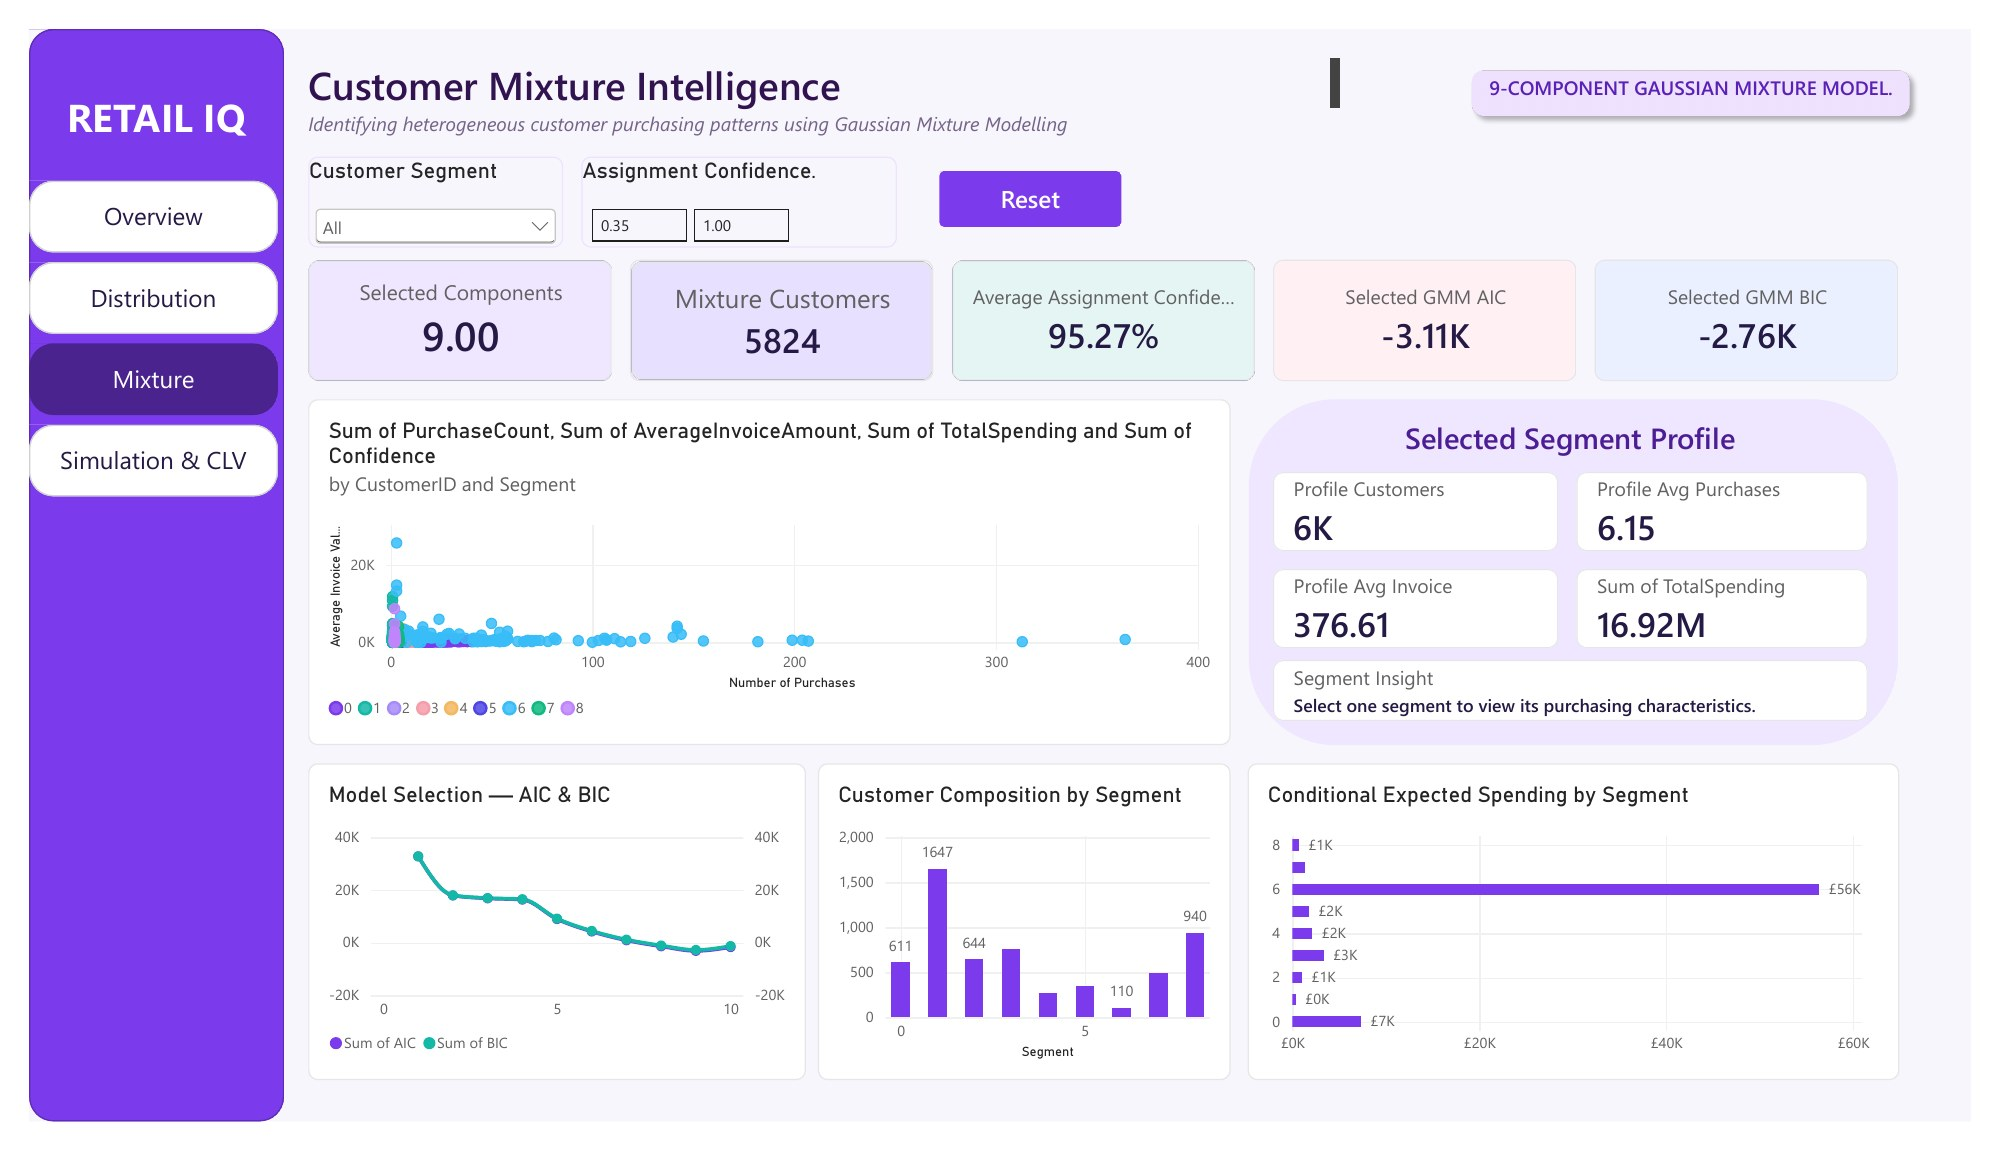

What the dashboard file says about the page in this screenshot:
{"tool":"powerbi","page":{"name":"Mixture","canvas":[1600,900],"ordinal":2},"visuals":[{"type":"shape","box":[1005,305,535,285],"z":1000},{"type":"shape","box":[1180,24.7,377.9,55.2],"z":2000},{"type":"shape","box":[0,0,210,900],"z":3000},{"type":"textbox","box":[0,50,210,71],"z":4000},{"type":"pageNavigator","box":[0,125,205,263],"z":5000},{"type":"textbox","box":[230,24,850,42],"z":6000},{"type":"textbox","box":[230,67,850,25],"z":7000},{"type":"textbox","box":[1190,38,359,28],"z":8000},{"type":"slicer","title":"Customer Segment","fields":{"Values":["Mixture_Customer_Assignments.Segment"]},"box":[230,105,210,75],"z":9000},{"type":"slicer","title":"Assignment Confidence.","fields":{"Values":["Mixture_Customer_Assignments.Confidence"]},"box":[455,105,260,75],"z":10000},{"type":"actionButton","box":[750,117,150,46],"z":11000},{"type":"cardVisual","title":"Selected Components","fields":{"Data":["Mixture_Customer_Assignments.Selected Components"]},"box":[230,190,250,100],"z":12000},{"type":"cardVisual","fields":{"Data":["Mixture_Customer_Assignments.Mixture Customers"]},"box":[495,190,250,100],"z":13000},{"type":"cardVisual","title":"Selected Components","fields":{"Data":["Mixture_Customer_Assignments.Average Assignment Confidence"]},"box":[760,190,250,100],"z":14000},{"type":"cardVisual","title":"Selected Components","fields":{"Data":["Mixture_Customer_Assignments.Selected GMM AIC"]},"box":[1025,190,250,100],"z":15000},{"type":"cardVisual","title":"Selected Components","fields":{"Data":["Mixture_Customer_Assignments.Selected GMM BIC"]},"box":[1290,190,250,100],"z":16000},{"type":"scatterChart","fields":{"Category":["Mixture_Customer_Assignments.CustomerID"],"Series":["Mixture_Customer_Assignments.Segment"],"X":["Sum(Mixture_Customer_Assignments.PurchaseCount)"],"Y":["Sum(Mixture_Customer_Assignments.AverageInvoiceAmount)"]},"box":[230,305,760,285],"z":17000},{"type":"textbox","box":[1025,320,490,42],"z":18000},{"type":"cardVisual","fields":{"Data":["Mixture_Customer_Assignments.Profile Customers"]},"box":[1025,365,235,65],"z":19000},{"type":"cardVisual","fields":{"Data":["Mixture_Customer_Assignments.Profile Avg Purchases"]},"box":[1275,365,240,65],"z":20000},{"type":"cardVisual","fields":{"Data":["Sum(Mixture_Customer_Assignments.TotalSpending)"]},"box":[1275,445,240,65],"z":21000},{"type":"cardVisual","fields":{"Data":["Mixture_Customer_Assignments.Profile Avg Invoice"]},"box":[1025,445,235,65],"z":22000},{"type":"cardVisual","fields":{"Data":["Mixture_Customer_Assignments.Segment Insight"]},"box":[1025,520,490,50],"z":23000},{"type":"lineChart","title":"Model Selection — AIC & BIC","fields":{"Category":["Mixture_Model_Selection.Components"],"Y":["Sum(Mixture_Model_Selection.AIC)"],"Y2":["Sum(Mixture_Model_Selection.BIC)"]},"box":[229.7,604.7,410,261.6],"z":24000},{"type":"clusteredColumnChart","title":"Customer Composition by Segment","fields":{"Category":["Mixture_Customer_Assignments.Segment"],"Y":["CountNonNull(Mixture_Customer_Assignments.CustomerID)"]},"box":[649.7,604.7,340.1,261.6],"z":25000},{"type":"clusteredBarChart","title":"Conditional Expected Spending by Segment","fields":{"Category":["Conditional_Expectations.Segment"],"Y":["Sum(Conditional_Expectations.ExpectedTotalSpending)"]},"box":[1004.4,604.7,536.3,261.6],"z":26000}]}

Visuals, with their boxes in screenshot pixels (x1, y1, x2, y2), scaled from the page's 1600x900 canvas onto the 2000x1151 screenshot:
shape: x1=1256 y1=390 x2=1925 y2=755
shape: x1=1475 y1=32 x2=1947 y2=102
shape: x1=0 y1=0 x2=262 y2=1150
textbox: x1=0 y1=64 x2=262 y2=155
pageNavigator: x1=0 y1=160 x2=256 y2=496
textbox: x1=288 y1=31 x2=1350 y2=84
textbox: x1=288 y1=86 x2=1350 y2=118
textbox: x1=1488 y1=49 x2=1936 y2=84
"Customer Segment" slicer: x1=288 y1=134 x2=550 y2=230
"Assignment Confidence." slicer: x1=569 y1=134 x2=894 y2=230
actionButton: x1=938 y1=150 x2=1125 y2=208
"Selected Components" cardVisual: x1=288 y1=243 x2=600 y2=371
cardVisual - Mixture_Customer_Assignments.Mixture Customers: x1=619 y1=243 x2=931 y2=371
"Selected Components" cardVisual: x1=950 y1=243 x2=1262 y2=371
"Selected Components" cardVisual: x1=1281 y1=243 x2=1594 y2=371
"Selected Components" cardVisual: x1=1612 y1=243 x2=1925 y2=371
scatterChart - Mixture_Customer_Assignments.CustomerID x Mixture_Customer_Assignments.Segment: x1=288 y1=390 x2=1238 y2=755
textbox: x1=1281 y1=409 x2=1894 y2=463
cardVisual - Mixture_Customer_Assignments.Profile Customers: x1=1281 y1=467 x2=1575 y2=550
cardVisual - Mixture_Customer_Assignments.Profile Avg Purchases: x1=1594 y1=467 x2=1894 y2=550
cardVisual - Sum(Mixture_Customer_Assignments.TotalSpending): x1=1594 y1=569 x2=1894 y2=652
cardVisual - Mixture_Customer_Assignments.Profile Avg Invoice: x1=1281 y1=569 x2=1575 y2=652
cardVisual - Mixture_Customer_Assignments.Segment Insight: x1=1281 y1=665 x2=1894 y2=729
"Model Selection — AIC & BIC" lineChart: x1=287 y1=773 x2=800 y2=1108
"Customer Composition by Segment" clusteredColumnChart: x1=812 y1=773 x2=1237 y2=1108
"Conditional Expected Spending by Segment" clusteredBarChart: x1=1256 y1=773 x2=1926 y2=1108
